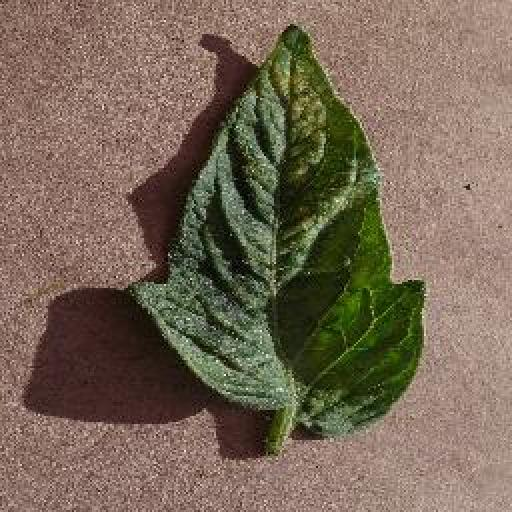Spider Mites: (125, 26, 424, 434)
